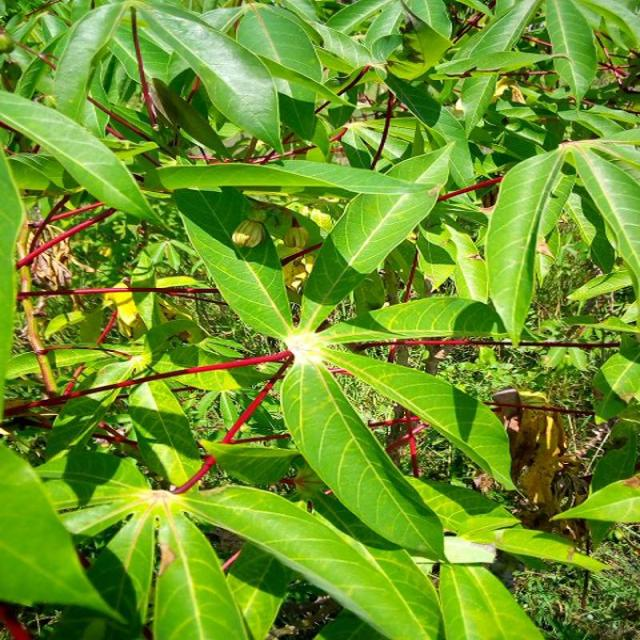cassava leaf: (1, 0, 637, 638), (279, 356, 446, 563)
